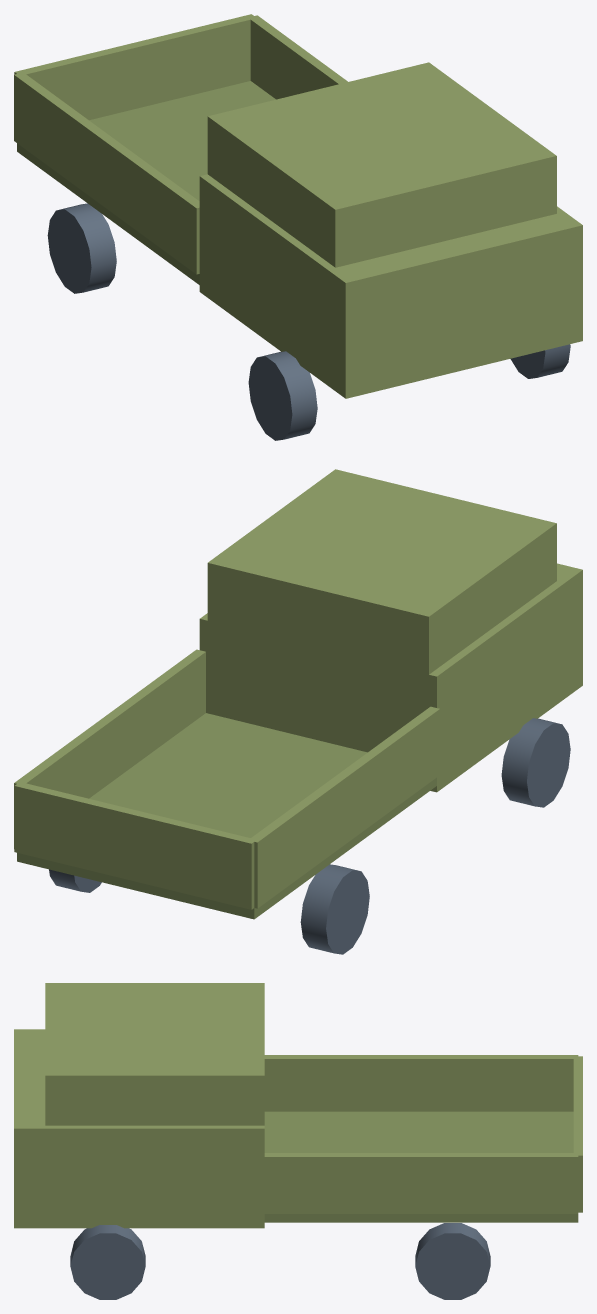
Rendered from pickup_truck.glb.
The picture shows the model from 3 angles, top to bottom: view 1: azimuth 30°, elevation 25°; view 2: azimuth 150°, elevation 25°; view 3: azimuth 270°, elevation 25°; orthographic projection. The views are drawn at different scales.
Size of the model in its own units: 0.88 by 0.747 by 1.82.
